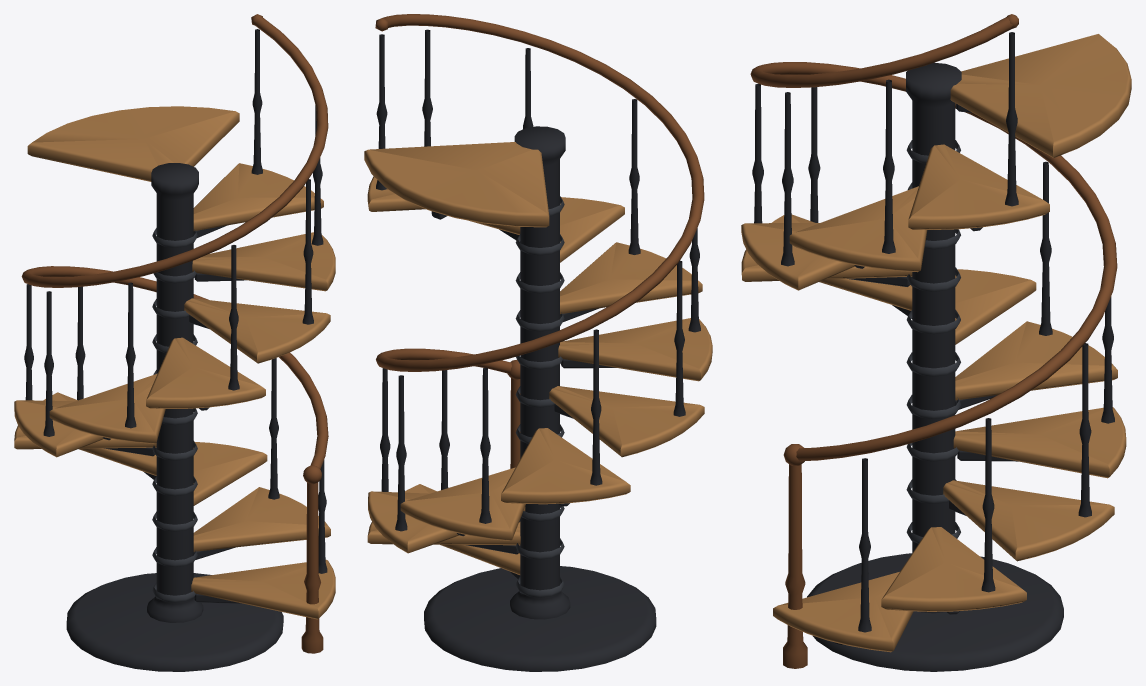
The model's file is furn_lh_stairs.glb.
3 views of the same model, side by side, from view 1: azimuth 30°, elevation 25°; view 2: azimuth 150°, elevation 25°; view 3: azimuth 270°, elevation 25° (orthographic). The views are drawn at different scales.
Visible parts, largest first — view 1: furn_lh_stairs_main; view 2: furn_lh_stairs_main; view 3: furn_lh_stairs_main.
Boxes of the visible parts, x1=… form: furn_lh_stairs_main: x1=14, y1=14, x2=335, y2=671; furn_lh_stairs_main: x1=364, y1=14, x2=712, y2=671; furn_lh_stairs_main: x1=741, y1=14, x2=1131, y2=671.
Size of the model in its own units: 1.48 by 2.84 by 1.5.
